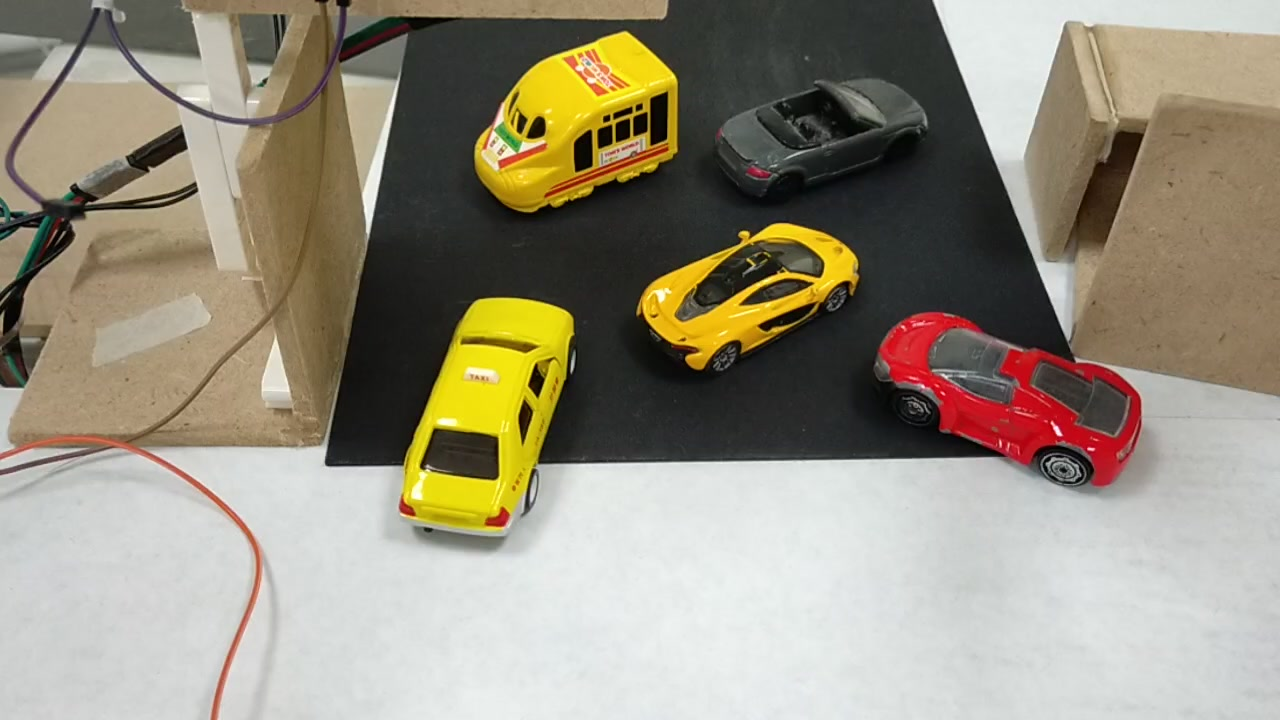car: (405, 297, 575, 552), (886, 318, 1139, 487), (633, 225, 854, 370), (725, 72, 930, 199)
